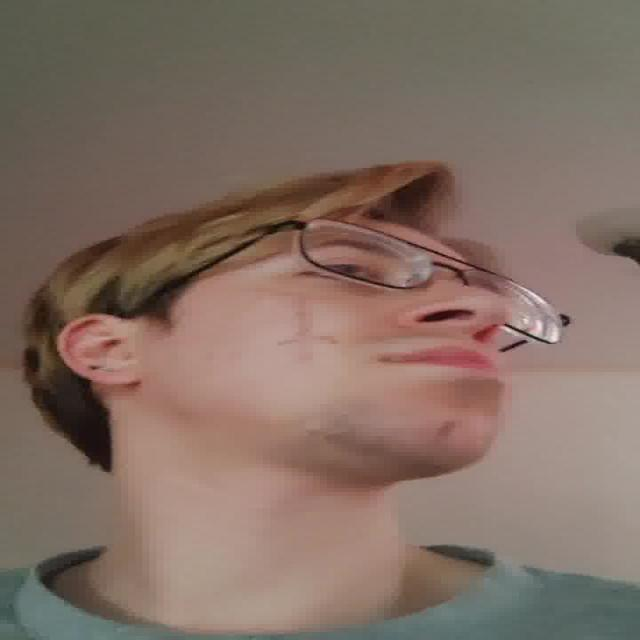earlobe: (59, 312, 143, 387)
